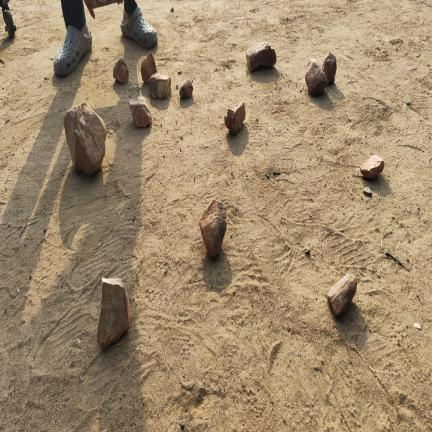Rocks: (65, 102, 106, 175), (98, 279, 130, 349), (199, 200, 226, 257), (328, 274, 356, 316), (247, 42, 276, 72), (306, 59, 327, 95), (129, 96, 152, 128), (224, 102, 246, 135), (360, 155, 384, 179), (140, 51, 157, 84), (150, 73, 170, 99), (323, 52, 336, 84), (113, 58, 128, 84), (180, 80, 193, 98), (364, 187, 372, 196), (414, 323, 421, 330), (305, 248, 310, 255), (171, 7, 174, 12)
